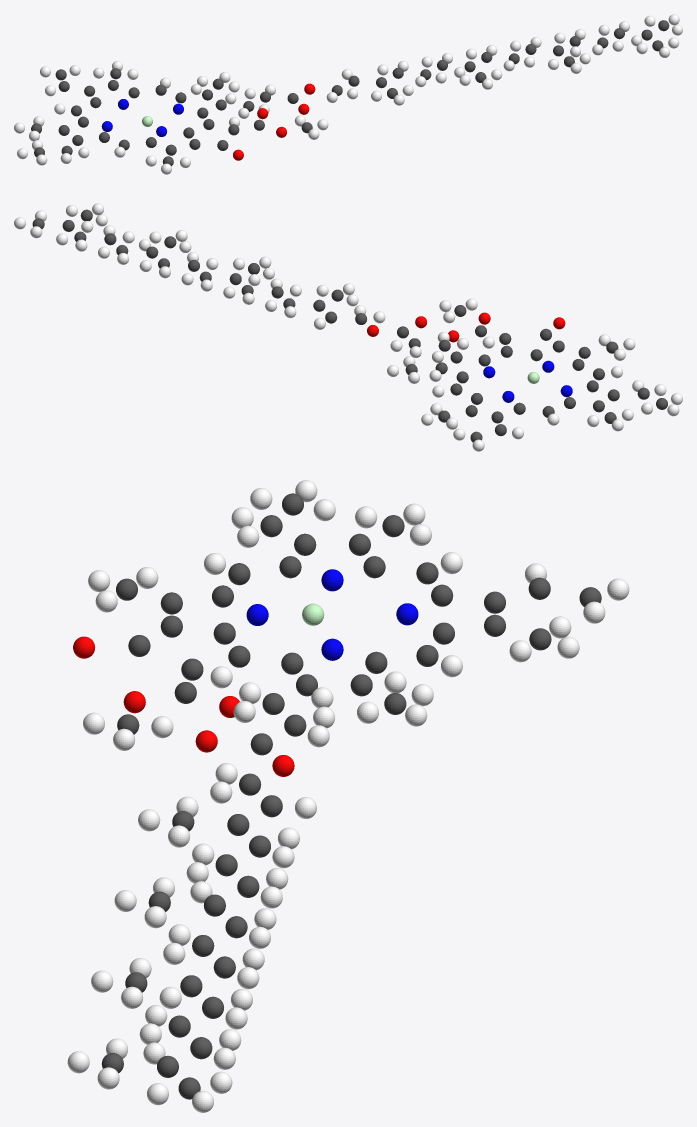
The model's file is Chlorophyll_a.fbx.
3 renders of one model, top to bottom at view 1: azimuth 30°, elevation 25°; view 2: azimuth 150°, elevation 25°; view 3: azimuth 270°, elevation 25°, orthographic. The views are drawn at different scales.
Bounding box in the file's own units: 2644 × 40 × 1012.
